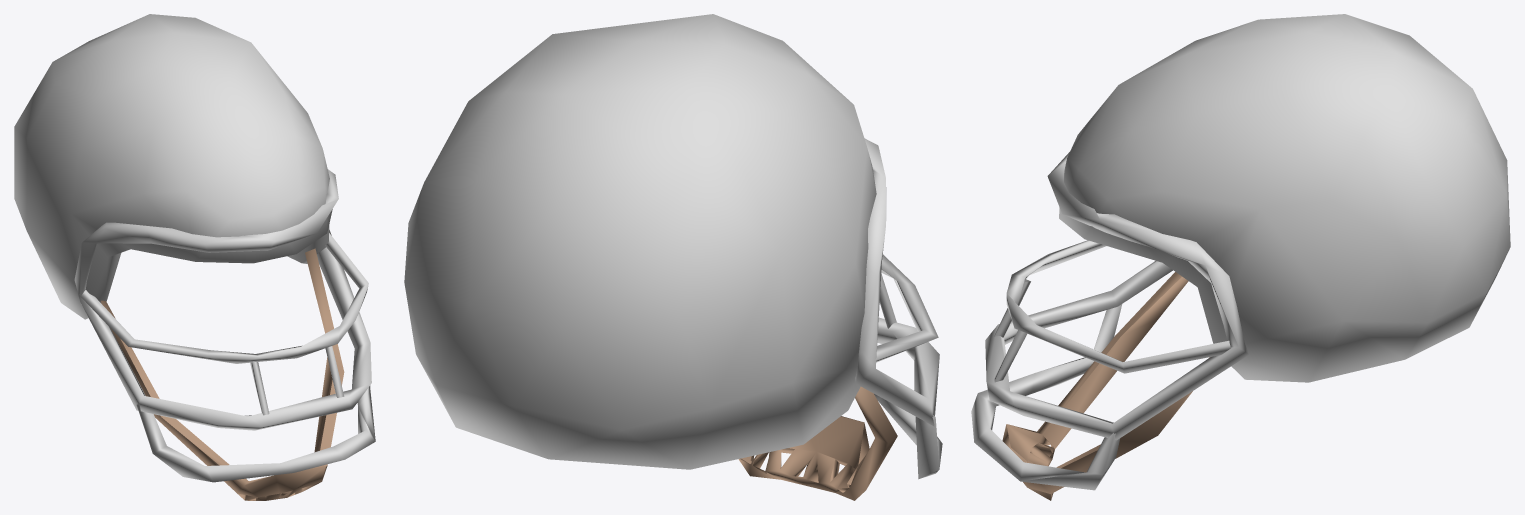
File: SM_Helmet021_MC.fbx
3 views of the same model, side by side, from view 1: azimuth 30°, elevation 25°; view 2: azimuth 150°, elevation 25°; view 3: azimuth 270°, elevation 25° (orthographic). The views are drawn at different scales.
Visible parts, largest first — view 1: SM_Helmet021_MC; view 2: SM_Helmet021_MC; view 3: SM_Helmet021_MC.
Boxes of the visible parts, <box> form: SM_Helmet021_MC: <box>14,14,375,500</box>; SM_Helmet021_MC: <box>404,14,942,500</box>; SM_Helmet021_MC: <box>971,14,1510,500</box>.
Size of the model in its own units: 27.28 by 39.21 by 42.33.
